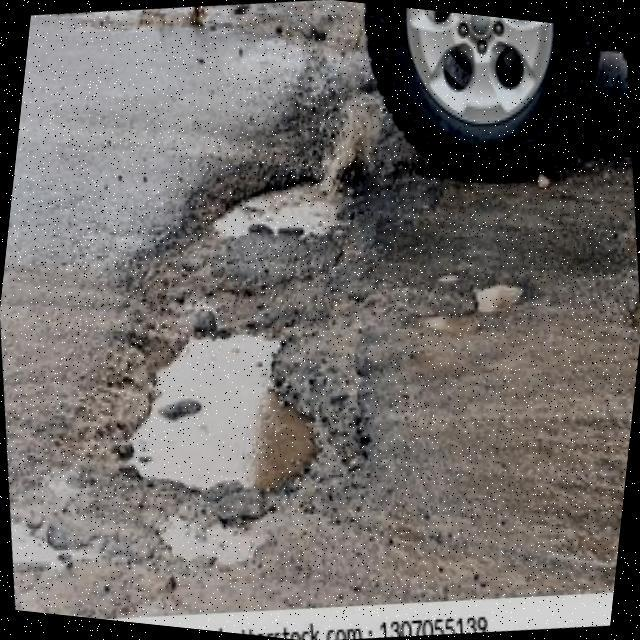Pothole: (131, 333, 316, 490), (219, 181, 336, 234)
